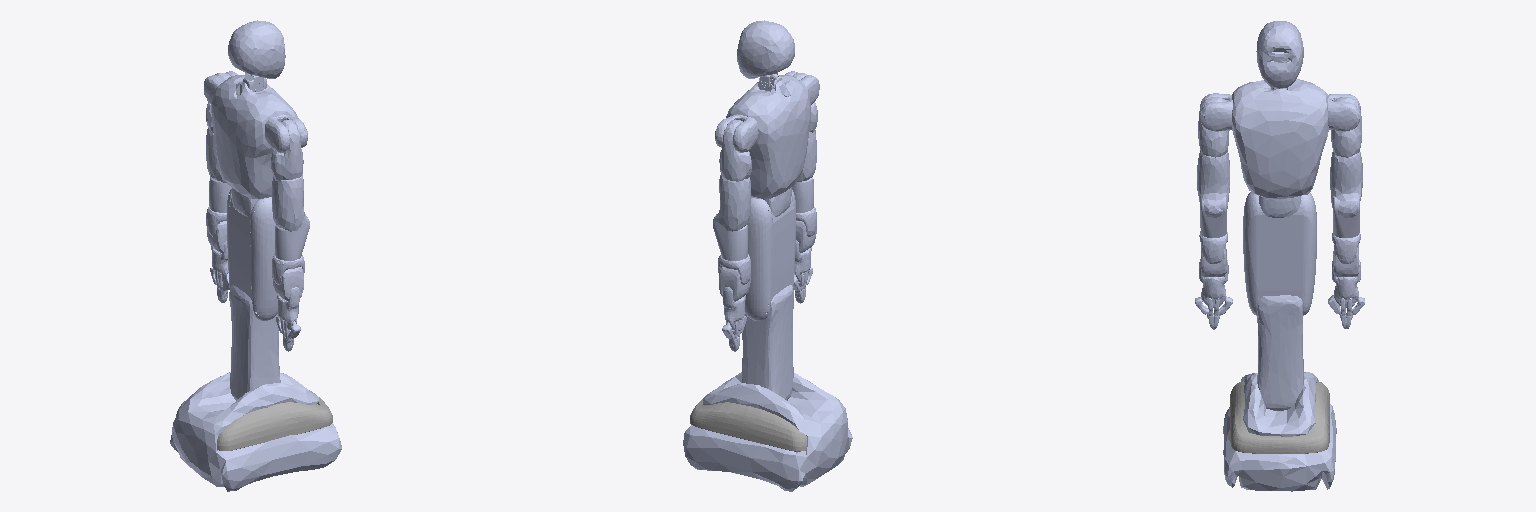
--- Facts derived from the render (not from the file) ---
Views: 3 orthographic renders of the robot side by side, from view 1: azimuth 30°, elevation 25°; view 2: azimuth 150°, elevation 25°; view 3: azimuth 270°, elevation 25°.
Robot: autolife — 47 links, 46 joints (21 revolute, 25 fixed); root link Link_Zero_Point; default pose: all joints at 0.
Visible links, largest first — view 1: Link_Ground_Vehicle, Link_Waist_Yaw_to_Shoulder_Inner, Link_Knee_to_Waist_Pitch, Link_Ankle_to_Knee, Link_Ground_Vehicle_Visual_Cover, Link_Head, Link_Right_UpperArm_to_Elbow, Link_Right_Shoulder_Outer_to_UpperArm, Link_Right_Shoulder_Inner_to_Shoulder_Outer, Link_Right_Elbow_to_Forearm, Link_Right_Wrist_Upper_to_Wrist_Lower, Link_Right_Wrist_Lower_to_Gripper (+2 smaller); view 2: Link_Ground_Vehicle, Link_Waist_Yaw_to_Shoulder_Inner, Link_Knee_to_Waist_Pitch, Link_Ankle_to_Knee, Link_Ground_Vehicle_Visual_Cover, Link_Head, Link_Left_UpperArm_to_Elbow, Link_Left_Shoulder_Outer_to_UpperArm, Link_Left_Shoulder_Inner_to_Shoulder_Outer, Link_Left_Elbow_to_Forearm, Link_Left_Wrist_Upper_to_Wrist_Lower, Link_Left_Wrist_Lower_to_Gripper (+1 smaller); view 3: Link_Waist_Yaw_to_Shoulder_Inner, Link_Ground_Vehicle, Link_Knee_to_Waist_Pitch, Link_Ankle_to_Knee, Link_Ground_Vehicle_Visual_Cover, Link_Head, Link_Left_UpperArm_to_Elbow, Link_Right_UpperArm_to_Elbow, Link_Right_Shoulder_Inner_to_Shoulder_Outer, Link_Left_Shoulder_Inner_to_Shoulder_Outer, Link_Right_Shoulder_Outer_to_UpperArm, Link_Left_Shoulder_Outer_to_UpperArm (+7 smaller).
Link boxes in pixels (x1=…): Link_Ground_Vehicle: x1=170, y1=372, x2=341, y2=491; Link_Waist_Yaw_to_Shoulder_Inner: x1=211, y1=75, x2=298, y2=198; Link_Knee_to_Waist_Pitch: x1=227, y1=190, x2=277, y2=320; Link_Ankle_to_Knee: x1=229, y1=285, x2=280, y2=400; Link_Ground_Vehicle_Visual_Cover: x1=176, y1=390, x2=332, y2=450; Link_Head: x1=228, y1=20, x2=285, y2=78; Link_Right_UpperArm_to_Elbow: x1=272, y1=174, x2=307, y2=231; Link_Right_Shoulder_Outer_to_UpperArm: x1=271, y1=120, x2=303, y2=180; Link_Right_Shoulder_Inner_to_Shoulder_Outer: x1=265, y1=114, x2=307, y2=152; Link_Right_Elbow_to_Forearm: x1=275, y1=218, x2=309, y2=260; Link_Right_Wrist_Upper_to_Wrist_Lower: x1=272, y1=267, x2=303, y2=300; Link_Right_Wrist_Lower_to_Gripper: x1=277, y1=287, x2=299, y2=329; Link_Ground_Vehicle: x1=683, y1=372, x2=852, y2=491; Link_Waist_Yaw_to_Shoulder_Inner: x1=726, y1=75, x2=810, y2=198; Link_Knee_to_Waist_Pitch: x1=745, y1=192, x2=795, y2=320; Link_Ankle_to_Knee: x1=742, y1=285, x2=793, y2=400; Link_Ground_Vehicle_Visual_Cover: x1=690, y1=390, x2=806, y2=451; Link_Head: x1=737, y1=20, x2=794, y2=78; Link_Left_UpperArm_to_Elbow: x1=713, y1=174, x2=751, y2=231; Link_Left_Shoulder_Outer_to_UpperArm: x1=719, y1=120, x2=751, y2=181; Link_Left_Shoulder_Inner_to_Shoulder_Outer: x1=715, y1=114, x2=758, y2=152; Link_Left_Elbow_to_Forearm: x1=713, y1=219, x2=747, y2=260; Link_Left_Wrist_Upper_to_Wrist_Lower: x1=719, y1=267, x2=750, y2=301; Link_Left_Wrist_Lower_to_Gripper: x1=723, y1=287, x2=745, y2=329; Link_Waist_Yaw_to_Shoulder_Inner: x1=1232, y1=79, x2=1328, y2=198; Link_Ground_Vehicle: x1=1223, y1=372, x2=1336, y2=491; Link_Knee_to_Waist_Pitch: x1=1243, y1=192, x2=1316, y2=315; Link_Ankle_to_Knee: x1=1257, y1=295, x2=1303, y2=410; Link_Ground_Vehicle_Visual_Cover: x1=1230, y1=381, x2=1329, y2=453; Link_Head: x1=1256, y1=21, x2=1303, y2=88; Link_Left_UpperArm_to_Elbow: x1=1330, y1=151, x2=1362, y2=217; Link_Right_UpperArm_to_Elbow: x1=1197, y1=150, x2=1229, y2=217; Link_Right_Shoulder_Inner_to_Shoulder_Outer: x1=1200, y1=93, x2=1232, y2=131; Link_Left_Shoulder_Inner_to_Shoulder_Outer: x1=1328, y1=94, x2=1360, y2=131; Link_Right_Shoulder_Outer_to_UpperArm: x1=1198, y1=97, x2=1229, y2=157; Link_Left_Shoulder_Outer_to_UpperArm: x1=1331, y1=97, x2=1361, y2=157.
Size in the robot's own frame: 0.5444 by 0.5882 by 1.68 metres.
Meshes: 46 distinct files referenced, 46 mesh visuals loaded (46 binary STL).

robot.urdf — autolife:
<?xml version='1.0' encoding='utf-8'?>
<robot name="autolife">
  <link name="Link_Zero_Point">
  </link>
  <joint name="Joint_Ground_Vehicle_Base" type="fixed">
    <origin xyz="0 0 0" rpy="0 0 1.5707963267949" />
    <parent link="Link_Zero_Point" />
    <child link="Link_Ground_Vehicle" />
    <axis xyz="1 0 0" />
  </joint>
  <link name="Link_Ground_Vehicle">
    <inertial>
      <origin xyz="-0.00059754303639295 0.0149481956156007 0.148277224545407" rpy="0 0 0" />
      <mass value="1.76472901588276" />
      <inertia ixx="0.00762290845782773" ixy="-2.93910770754353E-06" ixz="1.23694503771444E-05" iyy="0.00825103535952957" iyz="-0.000230532648823267" izz="0.0116628518559184" />
    </inertial>
    <visual>
      <origin xyz="0 0 0" rpy="0 0 0" />
      <geometry>
        <mesh filename="package://meshes/Link_Ground_Vehicle.STL" />
      </geometry>
      <material name="">
        <color rgba="0.792156862745098 0.819607843137255 0.933333333333333 1" />
      </material>
    </visual>
    <collision>
      <origin xyz="0 0 0" rpy="0 0 0" />
      <geometry>
        <mesh filename="package://meshes/Link_Ground_Vehicle.STL" />
      </geometry>
    </collision>
  </link>
  <link name="Link_Ankle_to_Knee">
    <inertial>
      <origin xyz="0.16976859107005 5.04511593380345E-05 -0.011659592653352" rpy="0 0 0" />
      <mass value="0.970205344211634" />
      <inertia ixx="0.00239278275003047" ixy="1.06865300816035E-05" ixz="9.37318496690757E-05" iyy="0.0180709718856655" iyz="4.97919456103669E-05" izz="0.0167571631367957" />
    </inertial>
    <visual>
      <origin xyz="0 0 0" rpy="0 0 0" />
      <geometry>
        <mesh filename="package://meshes/Link_Ankle_to_Knee.STL" />
      </geometry>
      <material name="">
        <color rgba="0.792156862745098 0.819607843137255 0.933333333333333 1" />
      </material>
    </visual>
    <collision>
      <origin xyz="0 0 0" rpy="0 0 0" />
      <geometry>
        <mesh filename="package://meshes/Link_Ankle_to_Knee.STL" />
      </geometry>
    </collision>
  </link>
  <joint name="Joint_Ankle" type="revolute">
    <origin xyz="0 0.0025695 0.28" rpy="0 -1.5708 0" />
    <parent link="Link_Ground_Vehicle" />
    <child link="Link_Ankle_to_Knee" />
    <axis xyz="0 0 -1" />
    <limit lower="-1.5708" upper="1.5708" effort="150" velocity="1" />
  </joint>
  <link name="Link_Knee_to_Waist_Pitch">
    <inertial>
      <origin xyz="0.190516175706594 0.00160329738556641 0.0308179544587926" rpy="0 0 0" />
      <mass value="0.785107966337333" />
      <inertia ixx="0.000958495389468965" ixy="-0.000157190431521544" ixz="4.0764501712907E-07" iyy="0.0115279594207101" iyz="-6.27934480130648E-08" izz="0.0122760868809789" />
    </inertial>
    <visual>
      <origin xyz="0 0 0" rpy="0 0 0" />
      <geometry>
        <mesh filename="package://meshes/Link_Knee_to_Waist_Pitch.STL" />
      </geometry>
      <material name="">
        <color rgba="0.792156862745098 0.819607843137255 0.933333333333333 1" />
      </material>
    </visual>
    <collision>
      <origin xyz="0 0 0" rpy="0 0 0" />
      <geometry>
        <mesh filename="package://meshes/Link_Knee_to_Waist_Pitch.STL" />
      </geometry>
    </collision>
  </link>
  <joint name="Joint_Knee" type="revolute">
    <origin xyz="0.3495 0 0" rpy="0 0 0" />
    <parent link="Link_Ankle_to_Knee" />
    <child link="Link_Knee_to_Waist_Pitch" />
    <axis xyz="0 0 1" />
    <limit lower="-3.14" upper="3.14" effort="150" velocity="1" />
  </joint>
  <link name="Link_Waist_Pitch_to_Waist_Yaw">
    <inertial>
      <origin xyz="0.0152074286340816 -0.000372613686719535 0.000444933410472928" rpy="0 0 0" />
      <mass value="0.275824503631058" />
      <inertia ixx="0.00059017216172053" ixy="-3.01831260181908E-06" ixz="5.4853813537808E-06" iyy="0.000866684105629655" iyz="8.7380244066877E-07" izz="0.000589200767126788" />
    </inertial>
    <visual>
      <origin xyz="0 0 0" rpy="0 0 0" />
      <geometry>
        <mesh filename="package://meshes/Link_Waist_Pitch_to_Waist_Yaw.STL" />
      </geometry>
      <material name="">
        <color rgba="0.792156862745098 0.819607843137255 0.933333333333333 1" />
      </material>
    </visual>
    <collision>
      <origin xyz="0 0 0" rpy="0 0 0" />
      <geometry>
        <mesh filename="package://meshes/Link_Waist_Pitch_to_Waist_Yaw.STL" />
      </geometry>
    </collision>
  </link>
  <joint name="Joint_Waist_Pitch" type="revolute">
    <origin xyz="0.3705 0 0" rpy="0 0 0" />
    <parent link="Link_Knee_to_Waist_Pitch" />
    <child link="Link_Waist_Pitch_to_Waist_Yaw" />
    <axis xyz="0 0 -1" />
    <limit lower="-3" upper="3" effort="98" velocity="1" />
  </joint>
  <link name="Link_Waist_Yaw_to_Shoulder_Inner">
    <inertial>
      <origin xyz="-0.00128643613825427 1.47073825186722E-05 -0.181383848869264" rpy="0 0 0" />
      <mass value="1.43697295227155" />
      <inertia ixx="0.0200602530913065" ixy="1.16529704393161E-06" ixz="-0.000230073286953698" iyy="0.0101259213155954" iyz="-5.67858946900702E-06" izz="0.0120288729570786" />
    </inertial>
    <visual>
      <origin xyz="0 0 0" rpy="0 0 0" />
      <geometry>
        <mesh filename="package://meshes/Link_Waist_Yaw_to_Shoulder_Inner.STL" />
      </geometry>
      <material name="">
        <color rgba="0.792156862745098 0.819607843137255 0.933333333333333 1" />
      </material>
    </visual>
    <collision>
      <origin xyz="0 0 0" rpy="0 0 0" />
      <geometry>
        <mesh filename="package://meshes/Link_Waist_Yaw_to_Shoulder_Inner.STL" />
      </geometry>
    </collision>
  </link>
  <joint name="Joint_Waist_Yaw" type="revolute">
    <origin xyz="0.06643 0 0" rpy="1.5708 0 -1.5708" />
    <parent link="Link_Waist_Pitch_to_Waist_Yaw" />
    <child link="Link_Waist_Yaw_to_Shoulder_Inner" />
    <axis xyz="0 0 -1" />
    <limit lower="-3.141" upper="3.141" effort="66" velocity="1" />
  </joint>
  <link name="Link_Left_Shoulder_Inner_to_Shoulder_Outer">
    <inertial>
      <origin xyz="0.00316526487091364 -0.000975093260002557 0.0535894465070502" rpy="0 0 0" />
      <mass value="0.203200806738131" />
      <inertia ixx="0.000360716094859449" ixy="-3.24358715788642E-06" ixz="-1.16111797925121E-05" iyy="0.000366235163476432" iyz="-2.76750313603116E-06" izz="0.000253849475481663" />
    </inertial>
    <visual>
      <origin xyz="0 0 0" rpy="0 0 0" />
      <geometry>
        <mesh filename="package://meshes/Link_Left_Shoulder_Inner_to_Shoulder_Outer.STL" />
      </geometry>
      <material name="">
        <color rgba="0.792156862745098 0.819607843137255 0.933333333333333 1" />
      </material>
    </visual>
    <collision>
      <origin xyz="0 0 0" rpy="0 0 0" />
      <geometry>
        <mesh filename="package://meshes/Link_Left_Shoulder_Inner_to_Shoulder_Outer.STL" />
      </geometry>
    </collision>
  </link>
  <joint name="Joint_Left_Shoulder_Inner" type="revolute">
    <origin xyz="0 -0.1426 -0.27657" rpy="1.5708 0 0" />
    <parent link="Link_Waist_Yaw_to_Shoulder_Inner" />
    <child link="Link_Left_Shoulder_Inner_to_Shoulder_Outer" />
    <axis xyz="0 0 1" />
    <limit lower="-2.8798" upper="2.8798" effort="21" velocity="1" />
  </joint>
  <link name="Link_Left_Shoulder_Outer_to_UpperArm">
    <inertial>
      <origin xyz="0.0797776408457354 0.00438791447566497 -0.0203464442672691" rpy="0 0 0" />
      <mass value="0.313723970319552" />
      <inertia ixx="0.000302758902108125" ixy="-3.79594394234498E-06" ixz="-5.06365685072851E-06" iyy="0.000253514048396291" iyz="7.1709863236798E-07" izz="0.00035270293278015" />
    </inertial>
    <visual>
      <origin xyz="0 0 0" rpy="0 0 0" />
      <geometry>
        <mesh filename="package://meshes/Link_Left_Shoulder_Outer_to_UpperArm.STL" />
      </geometry>
      <material name="">
        <color rgba="0.792156862745098 0.819607843137255 0.933333333333333 1" />
      </material>
    </visual>
    <collision>
      <origin xyz="0 0 0" rpy="0 0 0" />
      <geometry>
        <mesh filename="package://meshes/Link_Left_Shoulder_Outer_to_UpperArm.STL" />
      </geometry>
    </collision>
  </link>
  <joint name="Joint_Left_Shoulder_Outer" type="revolute">
    <origin xyz="0.019255 0 0.080999" rpy="1.5709 0 1.5708" />
    <parent link="Link_Left_Shoulder_Inner_to_Shoulder_Outer" />
    <child link="Link_Left_Shoulder_Outer_to_UpperArm" />
    <axis xyz="0 0 -1" />
    <limit lower="-3.1416" upper="0.2618" effort="18" velocity="1" />
  </joint>
  <link name="Link_Left_UpperArm_to_Elbow">
    <inertial>
      <origin xyz="0.00469066352696576 0.00280721881312804 0.12941118482707" rpy="0 0 0" />
      <mass value="0.40753361857715" />
      <inertia ixx="0.000849007781256294" ixy="-4.79925419678671E-06" ixz="-6.54071461646154E-06" iyy="0.000747645829861676" iyz="-8.32279484608779E-06" izz="0.000314125127984671" />
    </inertial>
    <visual>
      <origin xyz="0 0 0" rpy="0 0 0" />
      <geometry>
        <mesh filename="package://meshes/Link_Left_UpperArm_to_Elbow.STL" />
      </geometry>
      <material name="">
        <color rgba="0.792156862745098 0.819607843137255 0.933333333333333 1" />
      </material>
    </visual>
    <collision>
      <origin xyz="0 0 0" rpy="0 0 0" />
      <geometry>
        <mesh filename="package://meshes/Link_Left_UpperArm_to_Elbow.STL" />
      </geometry>
    </collision>
  </link>
  <joint name="Joint_Left_UpperArm" type="revolute">
    <origin xyz="0.12925 0.0044999 -0.01925" rpy="1.5709 -1.5707 1.5708" />
    <parent link="Link_Left_Shoulder_Outer_to_UpperArm" />
    <child link="Link_Left_UpperArm_to_Elbow" />
    <axis xyz="0 0 1" />
    <limit lower="-2.8798" upper="2.8798" effort="15" velocity="1" />
  </joint>
  <link name="Link_Left_Elbow_to_Forearm">
    <inertial>
      <origin xyz="0.0578034426716068 -0.0222139442784815 -0.0352423475562958" rpy="0 0 0" />
      <mass value="0.191019644801941" />
      <inertia ixx="0.000223603837538264" ixy="3.90546584040872E-05" ixz="-1.61807679619802E-06" iyy="0.000367596041466736" iyz="1.03273596576807E-06" izz="0.000490020029501822" />
    </inertial>
    <visual>
      <origin xyz="0 0 0" rpy="0 0 0" />
      <geometry>
        <mesh filename="package://meshes/Link_Left_Elbow_to_Forearm.STL" />
      </geometry>
      <material name="">
        <color rgba="0.792156862745098 0.819607843137255 0.933333333333333 1" />
      </material>
    </visual>
    <collision>
      <origin xyz="0 0 0" rpy="0 0 0" />
      <geometry>
        <mesh filename="package://meshes/Link_Left_Elbow_to_Forearm.STL" />
      </geometry>
    </collision>
  </link>
  <joint name="Joint_Left_Elbow" type="revolute">
    <origin xyz="0.024998 0.036158 0.20735" rpy="-3.1416 -1.5705 1.5708" />
    <parent link="Link_Left_UpperArm_to_Elbow" />
    <child link="Link_Left_Elbow_to_Forearm" />
    <axis xyz="0 0 1" />
    <limit lower="-0.0873" upper="2.61799" effort="12" velocity="1" />
  </joint>
  <link name="Link_Left_Forearm_to_Wrist_Upper">
    <inertial>
      <origin xyz="0.00884879907540006 8.4246855457909E-05 0.0236841933615141" rpy="0 0 0" />
      <mass value="0.11093689253481" />
      <inertia ixx="0.000110510127794654" ixy="1.65189500113761E-07" ixz="-1.30730109055405E-05" iyy="9.24118078082804E-05" iyz="-1.2295297722809E-07" izz="8.15829870338748E-05" />
    </inertial>
    <visual>
      <origin xyz="0 0 0" rpy="0 0 0" />
      <geometry>
        <mesh filename="package://meshes/Link_Left_Forearm_to_Wrist_Upper.STL" />
      </geometry>
      <material name="">
        <color rgba="0.792156862745098 0.819607843137255 0.933333333333333 1" />
      </material>
    </visual>
    <collision>
      <origin xyz="0 0 0" rpy="0 0 0" />
      <geometry>
        <mesh filename="package://meshes/Link_Left_Forearm_to_Wrist_Upper.STL" />
      </geometry>
    </collision>
  </link>
  <joint name="Joint_Left_Forearm" type="revolute">
    <origin xyz="0.1337 -0.025 -0.036136" rpy="1.5708 6.6051E-05 1.5708" />
    <parent link="Link_Left_Elbow_to_Forearm" />
    <child link="Link_Left_Forearm_to_Wrist_Upper" />
    <axis xyz="0 0 1" />
    <limit lower="-2.9671" upper="2.9671" effort="9" velocity="1" />
  </joint>
  <link name="Link_Left_Wrist_Upper_to_Wrist_Lower">
    <inertial>
      <origin xyz="0.0280879867655229 0.00123667993081761 -0.0308377186330782" rpy="0 0 0" />
      <mass value="0.120451219778188" />
      <inertia ixx="0.000104888875206667" ixy="2.44941774026814E-06" ixz="1.75533525604633E-05" iyy="0.000167140580493018" iyz="-3.98051418338599E-08" izz="0.000217735697904306" />
    </inertial>
    <visual>
      <origin xyz="0 0 0" rpy="0 0 0" />
      <geometry>
        <mesh filename="package://meshes/Link_Left_Wrist_Upper_to_Wrist_Lower.STL" />
      </geometry>
      <material name="">
        <color rgba="0.792156862745098 0.819607843137255 0.933333333333333 1" />
      </material>
    </visual>
    <collision>
      <origin xyz="0 0 0" rpy="0 0 0" />
      <geometry>
        <mesh filename="package://meshes/Link_Left_Wrist_Upper_to_Wrist_Lower.STL" />
      </geometry>
    </collision>
  </link>
  <joint name="Joint_Left_Wrist_Upper" type="revolute">
    <origin xyz="0.030349 0.0002874 0.050604" rpy="0.0094487 -1.5708 -3.1416" />
    <parent link="Link_Left_Forearm_to_Wrist_Upper" />
    <child link="Link_Left_Wrist_Upper_to_Wrist_Lower" />
    <axis xyz="0 0 -1" />
    <limit lower="-1.3963" upper="1.3963" effort="6" velocity="1" />
  </joint>
  <link name="Link_Left_Wrist_Lower_to_Gripper">
    <inertial>
      <origin xyz="0.0722688825275414 -0.000281747636267318 -0.0253587667328281" rpy="0 0 0" />
      <mass value="0.143735533635864" />
      <inertia ixx="8.22564890950023E-05" ixy="-1.48607286636697E-08" ixz="9.61668940336311E-06" iyy="0.000139062689036289" iyz="-1.476725997964E-07" izz="9.36641295677773E-05" />
    </inertial>
    <visual>
      <origin xyz="0 0 0" rpy="0 0 0" />
      <geometry>
        <mesh filename="package://meshes/Link_Left_Wrist_Lower_to_Gripper.STL" />
      </geometry>
      <material name="">
        <color rgba="0.792156862745098 0.819607843137255 0.933333333333333 1" />
      </material>
    </visual>
    <collision>
      <origin xyz="0 0 0" rpy="0 0 0" />
      <geometry>
        <mesh filename="package://meshes/Link_Left_Wrist_Lower_to_Gripper.STL" />
      </geometry>
    </collision>
  </link>
  <joint name="Joint_Left_Wrist_Lower" type="revolute">
    <origin xyz="0.0592 0.03035 -0.03035" rpy="-1.5708 0 0" />
    <parent link="Link_Left_Wrist_Upper_to_Wrist_Lower" />
    <child link="Link_Left_Wrist_Lower_to_Gripper" />
    <axis xyz="0 0 1" />
    <limit lower="-1.3963" upper="1.3963" effort="3" velocity="1" />
  </joint>
  <link name="Link_Camera_Gripper_Left">
    <inertial>
      <origin xyz="0.000105941220628181 0.029252641824717 -0.00726381692579368" rpy="0 0 0" />
      <mass value="0.000620287707848979" />
      <inertia ixx="9.954946516546E-07" ixy="-2.97003416387994E-09" ixz="8.04405874698912E-10" iyy="8.22881505540126E-08" iyz="2.01461489948855E-07" izz="9.20267513870828E-07" />
    </inertial>
    <visual>
      <origin xyz="0 0 0" rpy="0 0 0" />
      <geometry>
        <mesh filename="package://meshes/Link_Camera_Gripper_Left.STL" />
      </geometry>
      <material name="">
        <color rgba="0.792156862745098 0.819607843137255 0.933333333333333 1" />
      </material>
    </visual>
    <collision>
      <origin xyz="0 0 0" rpy="0 0 0" />
      <geometry>
        <mesh filename="package://meshes/Link_Camera_Gripper_Left.STL" />
      </geometry>
    </collision>
  </link>
  <joint name="Joint_Camera_Gripper_Left" type="fixed">
    <origin xyz="0.15282 0 -0.03035" rpy="1.5708 -1.5708 0" />
    <parent link="Link_Left_Wrist_Lower_to_Gripper" />
    <child link="Link_Camera_Gripper_Left" />
    <axis xyz="0 0 0" />
  </joint>
  <link name="Link_Left_Gripper">
    <inertial>
      <origin xyz="0.0126186699666561 -0.027875132662957 -0.0109906823465419" rpy="0 0 0" />
      <mass value="0.0206519659090923" />
      <inertia ixx="4.42160130308428E-06" ixy="-7.97784020067071E-07" ixz="7.60298747824409E-12" iyy="2.90495669588392E-06" iyz="-1.68911741847704E-11" izz="4.78225000091538E-06" />
    </inertial>
    <visual>
      <origin xyz="0 0 0" rpy="0 0 0" />
      <geometry>
        <mesh filename="package://meshes/Link_Left_Gripper.STL" />
      </geometry>
      <material name="">
        <color rgba="0.792156862745098 0.819607843137255 0.933333333333333 1" />
      </material>
    </visual>
    <collision>
      <origin xyz="0 0 0" rpy="0 0 0" />
      <geometry>
        <mesh filename="package://meshes/Link_Left_Gripper.STL" />
      </geometry>
    </collision>
  </link>
  <joint name="Joint_Left_Gripper" type="fixed">
    <origin xyz="0.1165 -0.011 0.00025004" rpy="-1.5398 -1.5707 3.1106" />
    <parent link="Link_Left_Wrist_Lower_to_Gripper" />
    <child link="Link_Left_Gripper" />
  </joint>
  <link name="Link_Left_Gripper_Left_Inner_Knuckle">
    <inertial>
      <origin xyz="-0.00149978139404408 -0.0291513140270752 -0.0109999660740234" rpy="0 0 0" />
      <mass value="0.0102146910854251" />
      <inertia ixx="4.38129665838747E-06" ixy="-1.27262585579237E-07" ixz="-4.69592988551413E-12" iyy="1.74550878178614E-06" iyz="1.56865074576307E-12" izz="2.90359014358719E-06" />
    </inertial>
    <visual>
      <origin xyz="0 0 0" rpy="0 0 0" />
      <geometry>
        <mesh filename="package://meshes/Link_Left_Gripper_Left_Inner_Knuckle.STL" />
      </geometry>
      <material name="">
        <color rgba="0.792156862745098 0.819607843137255 0.933333333333333 1" />
      </material>
    </visual>
    <collision>
      <origin xyz="0 0 0" rpy="0 0 0" />
      <geometry>
        <mesh filename="package://meshes/Link_Left_Gripper_Left_Inner_Knuckle.STL" />
      </geometry>
    </collision>
  </link>
  <joint name="Joint_Left_Gripper_Left_Inner_Knuckle" type="fixed">
    <origin xyz="0.12302 -0.011 -0.01765" rpy="1.5708 -1.5708 0" />
    <parent link="Link_Left_Wrist_Lower_to_Gripper" />
    <child link="Link_Left_Gripper_Left_Inner_Knuckle" />
    <mimic joint="Joint_Left_Gripper" multiplier="1" offset="0" />
  </joint>
  <link name="Link_Left_Gripper_Left_Finger">
    <inertial>
      <origin xyz="0.000542638958085678 -0.0200563209809078 -0.0109440395306242" rpy="0 0 0" />
      <mass value="0.020254003844163" />
      <inertia ixx="3.55387488357024E-06" ixy="-3.66729422471639E-07" ixz="-1.28243746306772E-08" iyy="1.35355004511896E-06" iyz="-6.91287607168674E-09" izz="3.28174345791181E-06" />
    </inertial>
    <visual>
      <origin xyz="0 0 0" rpy="0 0 0" />
      <geometry>
        <mesh filename="package://meshes/Link_Left_Gripper_Left_Finger.STL" />
      </geometry>
      <material name="">
        <color rgba="0.792156862745098 0.819607843137255 0.933333333333333 1" />
      </material>
    </visual>
    <collision>
      <origin xyz="0 0 0" rpy="0 0 0" />
      <geometry>
        <mesh filename="package://meshes/Link_Left_Gripper_Left_Finger.STL" />
      </geometry>
    </collision>
  </link>
  <joint name="Joint_Left_Gripper_Left_Finger" type="fixed">
    <origin xyz="-0.0032211 -0.057059 0" rpy="0 0 0" />
    <parent link="Link_Left_Gripper_Left_Inner_Knuckle" />
    <child link="Link_Left_Gripper_Left_Finger" />
    <mimic joint="Joint_Left_Gripper" multiplier="-1" offset="0" />
  </joint>
  <link name="Link_Left_Gripper_Right_Outer_Knuckle">
    <inertial>
      <origin xyz="-0.0126255788814193 -0.0278720040657486 -0.011009317653226" rpy="0 0 0" />
      <mass value="0.0206519659088955" />
      <inertia ixx="4.42199669725233E-06" ixy="7.97407997149111E-07" ixz="7.60718271586224E-12" iyy="2.90456130176528E-06" iyz="1.68893057598828E-11" izz="4.78225000086968E-06" />
    </inertial>
    <visual>
      <origin xyz="0 0 0" rpy="0 0 0" />
      <geometry>
        <mesh filename="package://meshes/Link_Left_Gripper_Right_Outer_Knuckle.STL" />
      </geometry>
      <material name="">
        <color rgba="0.792156862745098 0.819607843137255 0.933333333333333 1" />
      </material>
    </visual>
    <collision>
      <origin xyz="0 0 0" rpy="0 0 0" />
      <geometry>
        <mesh filename="package://meshes/Link_Left_Gripper_Right_Outer_Knuckle.STL" />
      </geometry>
    </collision>
  </link>
  <joint name="Joint_Left_Gripper_Right_Outer_Knuckle" type="fixed">
    <origin xyz="0.1165 -0.011 -0.06095" rpy="-1.5398 -1.5707 3.1106" />
    <parent link="Link_Left_Wrist_Lower_to_Gripper" />
    <child link="Link_Left_Gripper_Right_Outer_Knuckle" />
    <mimic joint="Joint_Left_Gripper" multiplier="-1" offset="0" />
  </joint>
  <link name="Link_Left_Gripper_Right_Inner_Knuckle">
    <inertial>
      <origin xyz="0.00178954078758595 -0.0291349577136361 -0.0109999768255139" rpy="0 0 0" />
      <mass value="0.0102146910854251" />
      <inertia ixx="4.37638649589448E-06" ixy="1.70627672905001E-07" ixz="-4.9765690714653E-12" iyy="1.75041894427724E-06" iyz="5.91560913804151E-13" izz="2.90359014358907E-06" />
    </inertial>
    <visual>
      <origin xyz="0 0 0" rpy="0 0 0" />
      <geometry>
        <mesh filename="package://meshes/Link_Left_Gripper_Right_Inner_Knuckle.STL" />
      </geometry>
      <material name="">
        <color rgba="0.792156862745098 0.819607843137255 0.933333333333333 1" />
      </material>
    </visual>
    <collision>
      <origin xyz="0 0 0" rpy="0 0 0" />
      <geometry>
        <mesh filename="package://meshes/Link_Left_Gripper_Right_Inner_Knuckle.STL" />
      </geometry>
    </collision>
  </link>
  <joint name="Joint_Left_Gripper_Right_Inner_Knuckle" type="fixed">
    <origin xyz="0.12302 -0.011 -0.04305" rpy="1.5708 -1.5708 0" />
    <parent link="Link_Left_Wrist_Lower_to_Gripper" />
    <child link="Link_Left_Gripper_Right_Inner_Knuckle" />
    <mimic joint="Joint_Left_Gripper" multiplier="-1" offset="0" />
  </joint>
  <link name="Link_Left_Gripper_Right_Finger">
    <inertial>
      <origin xyz="-0.000542710826665127 -0.0200563210643344 -0.0110559205227932" rpy="0 0 0" />
      <mass value="0.0202540038293407" />
      <inertia ixx="3.55387488045586E-06" ixy="3.66729388373509E-07" ixz="-1.28251046906285E-08" iyy="1.35355008131058E-06" iyz="6.91671762066884E-09" izz="3.28174341527734E-06" />
    </inertial>
    <visual>
      <origin xyz="0 0 0" rpy="0 0 0" />
      <geometry>
        <mesh filename="package://meshes/Link_Left_Gripper_Right_Finger.STL" />
      </geometry>
      <material name="">
        <color rgba="0.792156862745098 0.819607843137255 0.933333333333333 1" />
      </material>
    </visual>
    <collision>
      <origin xyz="0 0 0" rpy="0 0 0" />
      <geometry>
        <mesh filename="package://meshes/Link_Left_Gripper_Right_Finger.STL" />
      </geometry>
    </collision>
  </link>
  <joint name="Joint_Left_Gripper_Right_Finger" type="fixed">
    <origin xyz="0.003219 -0.057059 0" rpy="0 0 0" />
    <parent link="Link_Left_Gripper_Right_Inner_Knuckle" />
    <child link="Link_Left_Gripper_Right_Finger" />
    <mimic joint="Joint_Left_Gripper" multiplier="1" offset="0" />
  </joint>
  <link name="Link_Right_Shoulder_Inner_to_Shoulder_Outer">
    <inertial>
      <origin xyz="0.00118185217574434 0.000942392887598009 0.0550924580464795" rpy="0 0 0" />
      <mass value="0.213432264114562" />
      <inertia ixx="0.000366655434805914" ixy="3.29056503177536E-06" ixz="-1.18266921369955E-05" iyy="0.000370038992752772" iyz="2.95183586981112E-06" izz="0.000256413523568039" />
    </inertial>
    <visual>
      <origin xyz="0 0 0" rpy="0 0 0" />
      <geometry>
        <mesh filename="package://meshes/Link_Right_Shoulder_Inner_to_Shoulder_Outer.STL" />
      </geometry>
      <material name="">
        <color rgba="0.792156862745098 0.819607843137255 0.933333333333333 1" />
      </material>
    </visual>
    <collision>
      <origin xyz="0 0 0" rpy="0 0 0" />
      <geometry>
        <mesh filename="package://meshes/Link_Right_Shoulder_Inner_to_Shoulder_Outer.STL" />
      </geometry>
    </collision>
  </link>
  <joint name="Joint_Right_Shoulder_Inner" type="revolute">
    <origin xyz="0 0.1426 -0.27657" rpy="-1.5708 0 0" />
    <parent link="Link_Waist_Yaw_to_Shoulder_Inner" />
    <child link="Link_Right_Shoulder_Inner_to_Shoulder_Outer" />
    <axis xyz="0 0 1" />
    <limit lower="-2.8798" upper="2.8798" effort="21" velocity="1" />
  </joint>
  <link name="Link_Right_Shoulder_Outer_to_UpperArm">
    <inertial>
      <origin xyz="0.0797773908617689 -0.00439115439164139 -0.0203462148992158" rpy="0 0 0" />
      <mass value="0.313729168243654" />
      <inertia ixx="0.00030276290748115" ixy="3.80197649437393E-06" ixz="-5.06384837502757E-06" iyy="0.000253516902685008" iyz="-7.08121734112211E-07" izz="0.000352705108019649" />
    </inertial>
    <visual>
      <origin xyz="0 0 0" rpy="0 0 0" />
      <geometry>
        <mesh filename="package://meshes/Link_Right_Shoulder_Outer_to_UpperArm.STL" />
      </geometry>
      <material name="">
        <color rgba="0.792156862745098 0.819607843137255 0.933333333333333 1" />
      </material>
    </visual>
    <collision>
      <origin xyz="0 0 0" rpy="0 0 0" />
      <geometry>
        <mesh filename="package://meshes/Link_Right_Shoulder_Outer_to_UpperArm.STL" />
      </geometry>
    </collision>
  </link>
  <joint name="Joint_Right_Shoulder_Outer" type="revolute">
    <origin xyz="0.019245 0 0.081001" rpy="-1.5707 -1.3076E-05 -1.5708" />
    <parent link="Link_Right_Shoulder_Inner_to_Shoulder_Outer" />
    <child link="Link_Right_Shoulder_Outer_to_UpperArm" />
    <axis xyz="0 0 -1" />
    <limit lower="-0.2618" upper="3.1416" effort="18" velocity="1" />
  </joint>
  <link name="Link_Right_UpperArm_to_Elbow">
    <inertial>
      <origin xyz="0.00541873370659093 -0.00326951500825667 0.139732124544462" rpy="0 0 0" />
      <mass value="0.347653649804494" />
      <inertia ixx="0.000763160476372006" ixy="4.7975551120003E-06" ixz="-7.61924323896886E-06" iyy="0.00068545977489044" iyz="8.26256096426581E-06" izz="0.000277537677604993" />
    </inertial>
    <visual>
      <origin xyz="0 0 0" rpy="0 0 0" />
      <geometry>
        <mesh filename="package://meshes/Link_Right_UpperArm_to_Elbow.STL" />
      </geometry>
      <material name="">
        <color rgba="0.792156862745098 0.819607843137255 0.933333333333333 1" />
      </material>
    </visual>
    <collision>
      <origin xyz="0 0 0" rpy="0 0 0" />
      <geometry>
        <mesh filename="package://meshes/Link_Right_UpperArm_to_Elbow.STL" />
      </geometry>
    </collision>
  </link>
  <joint name="Joint_Right_UpperArm" type="revolute">
    <origin xyz="0.12925 -0.0045 -0.01925" rpy="1.5708 -1.5707 1.5708" />
    <parent link="Link_Right_Shoulder_Outer_to_UpperArm" />
    <child link="Link_Right_UpperArm_to_Elbow" />
    <axis xyz="0 0 1" />
    <limit lower="-2.8798" upper="2.8798" effort="15" velocity="1" />
  </joint>
  <link name="Link_Right_Elbow_to_Forearm">
    <inertial>
      <origin xyz="0.0578099453339372 0.0222143603324421 -0.0352358436170871" rpy="0 0 0" />
      <mass value="0.191025125429196" />
      <inertia ixx="0.000223610382100101" ixy="-3.9060324188661E-05" ixz="-1.64515461195713E-06" iyy="0.000367631600439802" iyz="-1.09664174547314E-06" izz="0.000490028080795422" />
    </inertial>
    <visual>
      <origin xyz="0 0 0" rpy="0 0 0" />
      <geometry>
        <mesh filename="package://meshes/Link_Right_Elbow_to_Forearm.STL" />
      </geometry>
      <material name="">
        <color rgba="0.792156862745098 0.819607843137255 0.933333333333333 1" />
      </material>
    </visual>
    <collision>
      <origin xyz="0 0 0" rpy="0 0 0" />
      <geometry>
        <mesh filename="package://meshes/Link_Right_Elbow_to_Forearm.STL" />
      </geometry>
    </collision>
  </link>
  <joint name="Joint_Right_Elbow" type="revolute">
    <origin xyz="0.025002 -0.036123 0.20735" rpy="-1.5707 -1.5708 3.1416" />
    <parent link="Link_Right_UpperArm_to_Elbow" />
    <child link="Link_Right_Elbow_to_Forearm" />
    <axis xyz="0 0 1" />
    <limit lower="-2.61799" upper="0.0873" effort="12" velocity="1" />
  </joint>
  <link name="Link_Right_Forearm_to_Wrist_Upper">
    <inertial>
      <origin xyz="0.00743431881876775 1.03457061279011E-06 0.0230186078618214" rpy="0 0 0" />
      <mass value="0.114828988554897" />
      <inertia ixx="0.00011167234296196" ixy="-1.03329837588883E-09" ixz="-1.3079042415296E-05" iyy="9.28462893944086E-05" iyz="1.96124953145855E-09" izz="8.25038904518323E-05" />
    </inertial>
    <visual>
      <origin xyz="0 0 0" rpy="0 0 0" />
      <geometry>
        <mesh filename="package://meshes/Link_Right_Forearm_to_Wrist_Upper.STL" />
      </geometry>
      <material name="">
        <color rgba="0.792156862745098 0.819607843137255 0.933333333333333 1" />
      </material>
    </visual>
    <collision>
      <origin xyz="0 0 0" rpy="0 0 0" />
      <geometry>
        <mesh filename="package://meshes/Link_Right_Forearm_to_Wrist_Upper.STL" />
      </geometry>
    </collision>
  </link>
  <joint name="Joint_Right_Forearm" type="revolute">
    <origin xyz="0.1337 0.025 -0.03613" rpy="-1.5708 -6.6065E-05 -1.5708" />
    <parent link="Link_Right_Elbow_to_Forearm" />
    <child link="Link_Right_Forearm_to_Wrist_Upper" />
    <axis xyz="0 0 1" />
    <limit lower="-2.9671" upper="2.9671" effort="9" velocity="1" />
  </joint>
  <link name="Link_Right_Wrist_Upper_to_Wrist_Lower">
    <inertial>
      <origin xyz="0.0280879850640203 0.0012366826436031 -0.0308377178555206" rpy="0 0 0" />
      <mass value="0.120451214542922" />
      <inertia ixx="0.000104888871266587" ixy="2.44941140515941E-06" ixz="1.75533534746792E-05" iyy="0.000167140570345676" iyz="-3.98049921382671E-08" izz="0.000217735683650262" />
    </inertial>
    <visual>
      <origin xyz="0 0 0" rpy="0 0 0" />
      <geometry>
        <mesh filename="package://meshes/Link_Right_Wrist_Upper_to_Wrist_Lower.STL" />
      </geometry>
      <material name="">
        <color rgba="0.792156862745098 0.819607843137255 0.933333333333333 1" />
      </material>
    </visual>
    <collision>
      <origin xyz="0 0 0" rpy="0 0 0" />
      <geometry>
        <mesh filename="package://meshes/Link_Right_Wrist_Upper_to_Wrist_Lower.STL" />
      </geometry>
    </collision>
  </link>
  <joint name="Joint_Right_Wrist_Upper" type="revolute">
    <origin xyz="0.03035 0 0.0506" rpy="6.6062E-05 -1.5708 3.1416" />
    <parent link="Link_Right_Forearm_to_Wrist_Upper" />
    <child link="Link_Right_Wrist_Upper_to_Wrist_Lower" />
    <axis xyz="0 0 -1" />
    <limit lower="-1.3963" upper="1.3963" effort="6" velocity="1" />
  </joint>
  <link name="Link_Right_Wrist_Lower_to_Gripper">
    <inertial>
      <origin xyz="0.0726557579481283 -0.000280154625799797 -0.0253413086105766" rpy="0 0 0" />
      <mass value="0.144552905707754" />
      <inertia ixx="8.22974671111719E-05" ixy="-1.48659715178908E-08" ixz="9.61567421561625E-06" iyy="0.000139093952672852" iyz="-1.47706267791576E-07" izz="9.36768745077933E-05" />
    </inertial>
    <visual>
      <origin xyz="0 0 0" rpy="0 0 0" />
      <geometry>
        <mesh filename="package://meshes/Link_Right_Wrist_Lower_to_Gripper.STL" />
      </geometry>
      <material name="">
        <color rgba="0.792156862745098 0.819607843137255 0.933333333333333 1" />
      </material>
    </visual>
    <collision>
      <origin xyz="0 0 0" rpy="0 0 0" />
      <geometry>
        <mesh filename="package://meshes/Link_Right_Wrist_Lower_to_Gripper.STL" />
      </geometry>
    </collision>
  </link>
  <joint name="Joint_Right_Wrist_Lower" type="revolute">
    <origin xyz="0.0592 0.03035 -0.03035" rpy="-1.5708 0 0" />
    <parent link="Link_Right_Wrist_Upper_to_Wrist_Lower" />
    <child link="Link_Right_Wrist_Lower_to_Gripper" />
    <axis xyz="0 0 1" />
    <limit lower="-1.3963" upper="1.3963" effort="3" velocity="1" />
  </joint>
  <link name="Link_Camera_Gripper_Right">
    <inertial>
      <origin xyz="0.000101983991574461 0.0292526558926576 -0.00726381690916586" rpy="0 0 0" />
      <mass value="0.000620287707848943" />
      <inertia ixx="9.95495438495952E-07" ixy="-2.84649671853165E-09" ixz="7.77153548931739E-10" iyy="8.22873634779718E-08" iyz="2.01461596457023E-07" izz="9.20267514105089E-07" />
    </inertial>
    <visual>
      <origin xyz="0 0 0" rpy="0 0 0" />
      <geometry>
        <mesh filename="package://meshes/Link_Camera_Gripper_Right.STL" />
      </geometry>
      <material name="">
        <color rgba="0.792156862745098 0.819607843137255 0.933333333333333 1" />
      </material>
    </visual>
    <collision>
      <origin xyz="0 0 0" rpy="0 0 0" />
      <geometry>
        <mesh filename="package://meshes/Link_Camera_Gripper_Right.STL" />
      </geometry>
    </collision>
  </link>
  <joint name="Joint_Camera_Gripper_Right" type="fixed">
    <origin xyz="0.15282 0 -0.030265" rpy="1.5708 -1.5708 0" />
    <parent link="Link_Right_Wrist_Lower_to_Gripper" />
    <child link="Link_Camera_Gripper_Right" />
    <axis xyz="0 0 0" />
  </joint>
  <link name="Link_Right_Gripper">
    <inertial>
      <origin xyz="0.0126258598494104 -0.0278718607279 -0.0109907230959443" rpy="0 0 0" />
      <mass value="0.0206519659152865" />
      <inertia ixx="4.42201480389958E-06" ixy="-7.97390768798214E-07" ixz="8.76973854608117E-12" iyy="2.90454319544295E-06" iyz="-1.43158221743851E-11" izz="4.78225000112927E-06" />
    </inertial>
    <visual>
      <origin xyz="0 0 0" rpy="0 0 0" />
      <geometry>
        <mesh filename="package://meshes/Link_Right_Gripper.STL" />
      </geometry>
      <material name="">
        <color rgba="0.792156862745098 0.819607843137255 0.933333333333333 1" />
      </material>
    </visual>
    <collision>
      <origin xyz="0 0 0" rpy="0 0 0" />
      <geometry>
        <mesh filename="package://meshes/Link_Right_Gripper.STL" />
      </geometry>
    </collision>
  </link>
  <joint name="Joint_Right_Gripper" type="fixed">
    <origin xyz="0.1165 -0.011 0.00032995" rpy="1.5708 -1.5708 0" />
    <parent link="Link_Right_Wrist_Lower_to_Gripper" />
    <child link="Link_Right_Gripper" />
  </joint>
  <link name="Link_Right_Gripper_Left_Inner_Knuckle">
    <inertial>
      <origin xyz="-0.00149531151743199 -0.029151532669742 -0.0109999951743339" rpy="0 0 0" />
      <mass value="0.0102146910854251" />
      <inertia ixx="4.38133562006096E-06" ixy="-1.26858462324769E-07" ixz="-4.76902129262822E-12" iyy="1.74546982011104E-06" iyz="4.09400980316841E-13" izz="2.90359014358882E-06" />
    </inertial>
    <visual>
      <origin xyz="0 0 0" rpy="0 0 0" />
      <geometry>
        <mesh filename="package://meshes/Link_Right_Gripper_Left_Inner_Knuckle.STL" />
      </geometry>
      <material name="">
        <color rgba="0.792156862745098 0.819607843137255 0.933333333333333 1" />
      </material>
    </visual>
    <collision>
      <origin xyz="0 0 0" rpy="0 0 0" />
      <geometry>
        <mesh filename="package://meshes/Link_Right_Gripper_Left_Inner_Knuckle.STL" />
      </geometry>
    </collision>
  </link>
  <joint name="Joint_Right_Gripper_Left_Inner_Knuckle" type="fixed">
    <origin xyz="0.12301 -0.011 -0.017569" rpy="1.5708 -1.5708 0" />
    <parent link="Link_Right_Wrist_Lower_to_Gripper" />
    <child link="Link_Right_Gripper_Left_Inner_Knuckle" />
    <mimic joint="Joint_Right_Gripper" multiplier="1" offset="0" />
  </joint>
  <link name="Link_Right_Gripper_Left_Finger">
    <inertial>
      <origin xyz="0.000545352759208861 -0.0200562364150361 -0.0109440594481688" rpy="0 0 0" />
      <mass value="0.0202540038896872" />
      <inertia ixx="3.5539740718038E-06" ixy="-3.6643172372332E-07" ixz="-1.28237935522709E-08" iyy="1.35345090343178E-06" iyz="-6.91652985260133E-09" izz="3.28174342544628E-06" />
    </inertial>
    <visual>
      <origin xyz="0 0 0" rpy="0 0 0" />
      <geometry>
        <mesh filename="package://meshes/Link_Right_Gripper_Left_Finger.STL" />
      </geometry>
      <material name="">
        <color rgba="0.792156862745098 0.819607843137255 0.933333333333333 1" />
      </material>
    </visual>
    <collision>
      <origin xyz="0 0 0" rpy="0 0 0" />
      <geometry>
        <mesh filename="package://meshes/Link_Right_Gripper_Left_Finger.STL" />
      </geometry>
    </collision>
  </link>
  <joint name="Joint_Right_Gripper_Left_Finger" type="fixed">
    <origin xyz="-0.0032124 -0.05706 0" rpy="0 0 0" />
    <parent link="Link_Right_Gripper_Left_Inner_Knuckle" />
    <child link="Link_Right_Gripper_Left_Finger" />
    <mimic joint="Joint_Right_Gripper" multiplier="-1" offset="0" />
  </joint>
  <link name="Link_Right_Gripper_Right_Outer_Knuckle">
    <inertial>
      <origin xyz="-0.0126183890070581 -0.0278752759363309 -0.011009276928954" rpy="0 0 0" />
      <mass value="0.0206519659154423" />
      <inertia ixx="4.42158318761922E-06" ixy="7.97801239226134E-07" ixz="8.76655291899067E-12" iyy="2.90497481167391E-06" iyz="1.43165388480865E-11" izz="4.78225000117387E-06" />
    </inertial>
    <visual>
      <origin xyz="0 0 0" rpy="0 0 0" />
      <geometry>
        <mesh filename="package://meshes/Link_Right_Gripper_Right_Outer_Knuckle.STL" />
      </geometry>
      <material name="">
        <color rgba="0.792156862745098 0.819607843137255 0.933333333333333 1" />
      </material>
    </visual>
    <collision>
      <origin xyz="0 0 0" rpy="0 0 0" />
      <geometry>
        <mesh filename="package://meshes/Link_Right_Gripper_Right_Outer_Knuckle.STL" />
      </geometry>
    </collision>
  </link>
  <joint name="Joint_Right_Gripper_Right_Outer_Knuckle" type="fixed">
    <origin xyz="0.1165 -0.011 -0.06087" rpy="1.5708 -1.5708 0" />
    <parent link="Link_Right_Wrist_Lower_to_Gripper" />
    <child link="Link_Right_Gripper_Right_Outer_Knuckle" />
    <mimic joint="Joint_Right_Gripper" multiplier="-1" offset="0" />
  </joint>
  <link name="Link_Right_Gripper_Right_Inner_Knuckle">
    <inertial>
      <origin xyz="0.00179400811779129 -0.0291346720397461 -0.0110000057897666" rpy="0 0 0" />
      <mass value="0.0102146910854251" />
      <inertia ixx="4.37633411312112E-06" ixy="1.71030276508952E-07" ixz="-4.75288026338584E-12" iyy="1.75047132705092E-06" iyz="-5.51953895001027E-13" izz="2.90359014358876E-06" />
    </inertial>
    <visual>
      <origin xyz="0 0 0" rpy="0 0 0" />
      <geometry>
        <mesh filename="package://meshes/Link_Right_Gripper_Right_Inner_Knuckle.STL" />
      </geometry>
      <material name="">
        <color rgba="0.792156862745098 0.819607843137255 0.933333333333333 1" />
      </material>
    </visual>
    <collision>
      <origin xyz="0 0 0" rpy="0 0 0" />
      <geometry>
        <mesh filename="package://meshes/Link_Right_Gripper_Right_Inner_Knuckle.STL" />
      </geometry>
    </collision>
  </link>
  <joint name="Joint_Right_Gripper_Right_Inner_Knuckle" type="fixed">
    <origin xyz="0.12302 -0.011 -0.042969" rpy="1.5708 -1.5708 0" />
    <parent link="Link_Right_Wrist_Lower_to_Gripper" />
    <child link="Link_Right_Gripper_Right_Inner_Knuckle" />
    <mimic joint="Joint_Right_Gripper" multiplier="-1" offset="0" />
  </joint>
  <link name="Link_Right_Gripper_Right_Finger">
    <inertial>
      <origin xyz="-0.000539997073784715 -0.0200563830974237 -0.0110559405546702" rpy="0 0 0" />
      <mass value="0.0202540037905654" />
      <inertia ixx="3.55377558791356E-06" ixy="3.67027072617117E-07" ixz="-1.2825664436535E-08" iyy="1.35364936278909E-06" iyz="6.91306480409945E-09" izz="3.28174339338345E-06" />
    </inertial>
    <visual>
      <origin xyz="0 0 0" rpy="0 0 0" />
      <geometry>
        <mesh filename="package://meshes/Link_Right_Gripper_Right_Finger.STL" />
      </geometry>
      <material name="">
        <color rgba="0.792156862745098 0.819607843137255 0.933333333333333 1" />
      </material>
    </visual>
    <collision>
      <origin xyz="0 0 0" rpy="0 0 0" />
      <geometry>
        <mesh filename="package://meshes/Link_Right_Gripper_Right_Finger.STL" />
      </geometry>
    </collision>
  </link>
  <joint name="Joint_Right_Gripper_Right_Finger" type="fixed">
    <origin xyz="0.0032278 -0.057059 0" rpy="0 0 0" />
    <parent link="Link_Right_Gripper_Right_Inner_Knuckle" />
    <child link="Link_Right_Gripper_Right_Finger" />
    <mimic joint="Joint_Right_Gripper" multiplier="1" offset="0" />
  </joint>
  <link name="Link_Neck_Roll_to_Neck_Pitch">
    <inertial>
      <origin xyz="9.00799057568236E-09 -0.0153769718417676 -0.0319690356415148" rpy="0 0 0" />
      <mass value="0.0266100129667274" />
      <inertia ixx="1.94167834173447E-05" ixy="-1.28189825539986E-12" ixz="-2.17853093030532E-08" iyy="2.2535263819422E-05" iyz="-1.44714983931659E-06" izz="8.81279711603355E-06" />
    </inertial>
    <visual>
      <origin xyz="0 0 0" rpy="0 0 0" />
      <geometry>
        <mesh filename="package://meshes/Link_Neck_Roll_to_Neck_Pitch.STL" />
      </geometry>
      <material name="">
        <color rgba="0.792156862745098 0.819607843137255 0.933333333333333 1" />
      </material>
    </visual>
    <collision>
      <origin xyz="0 0 0" rpy="0 0 0" />
      <geometry>
        <mesh filename="package://meshes/Link_Neck_Roll_to_Neck_Pitch.STL" />
      </geometry>
    </collision>
  </link>
  <joint name="Joint_Neck_Roll" type="revolute">
    <origin xyz="-0.0393 0 -0.3866" rpy="3.1415 1.5708 0" />
    <parent link="Link_Waist_Yaw_to_Shoulder_Inner" />
    <child link="Link_Neck_Roll_to_Neck_Pitch" />
    <axis xyz="0 0 1" />
    <limit lower="-0.4363" upper="0.4363" effort="1" velocity="1" />
  </joint>
  <link name="Link_Neck_Pitch_to_Neck_Yaw">
    <inertial>
      <origin xyz="0.0238505080469287 -9.76610520708222E-06 -0.0216620659361968" rpy="0 0 0" />
      <mass value="0.0345909525838143" />
      <inertia ixx="1.69081772091428E-05" ixy="2.45260116927946E-08" ixz="-1.55444483688494E-06" iyy="2.32170534309525E-05" iyz="-1.29662866835045E-08" izz="1.54953705433974E-05" />
    </inertial>
    <visual>
      <origin xyz="0 0 0" rpy="0 0 0" />
      <geometry>
        <mesh filename="package://meshes/Link_Neck_Pitch_to_Neck_Yaw.STL" />
      </geometry>
      <material name="">
        <color rgba="0.792156862745098 0.819607843137255 0.933333333333333 1" />
      </material>
    </visual>
    <collision>
      <origin xyz="0 0 0" rpy="0 0 0" />
      <geometry>
        <mesh filename="package://meshes/Link_Neck_Pitch_to_Neck_Yaw.STL" />
      </geometry>
    </collision>
  </link>
  <joint name="Joint_Neck_Pitch" type="revolute">
    <origin xyz="0 0.0265 -0.0343" rpy="-1.5708 0 0" />
    <parent link="Link_Neck_Roll_to_Neck_Pitch" />
    <child link="Link_Neck_Pitch_to_Neck_Yaw" />
    <axis xyz="0 0 -1" />
    <limit lower="-0.6981" upper="0.6981" effort="1" velocity="1" />
  </joint>
  <link name="Link_Neck_Yaw_to_Head">
    <inertial>
      <origin xyz="0.00193435086076889 4.59725398180288E-07 -0.0269424648216687" rpy="0 0 0" />
      <mass value="0.104705264997647" />
      <inertia ixx="3.20050490880563E-05" ixy="1.94948183115771E-08" ixz="3.78179233059623E-07" iyy="3.31493363970408E-05" iyz="-7.72349390029116E-11" izz="4.70672045159716E-05" />
    </inertial>
    <visual>
      <origin xyz="0 0 0" rpy="0 0 0" />
      <geometry>
        <mesh filename="package://meshes/Link_Neck_Yaw_to_Head.STL" />
      </geometry>
      <material name="">
        <color rgba="0.792156862745098 0.819607843137255 0.933333333333333 1" />
      </material>
    </visual>
    <collision>
      <origin xyz="0 0 0" rpy="0 0 0" />
      <geometry>
        <mesh filename="package://meshes/Link_Neck_Yaw_to_Head.STL" />
      </geometry>
    </collision>
  </link>
  <joint name="Joint_Neck_Yaw" type="revolute">
    <origin xyz="0.045 0 -0.0273" rpy="-1.5708 -6.6058E-05 1.5708" />
    <parent link="Link_Neck_Pitch_to_Neck_Yaw" />
    <child link="Link_Neck_Yaw_to_Head" />
    <axis xyz="0 0 -1" />
    <limit lower="-0.7854" upper="0.7854" effort="1" velocity="1" />
  </joint>
  <link name="Link_Camera_Head_Back">
    <inertial>
      <origin xyz="-0.000212238960519029 3.21215737342229E-09 -0.0137629216035849" rpy="0 0 0" />
      <mass value="0.00611898959479956" />
      <inertia ixx="5.91852783870796E-07" ixy="-1.16735482532381E-13" ixz="-1.33444303580332E-08" iyy="6.09804864943423E-07" iyz="-1.90497374950041E-13" izz="6.6277503277253E-07" />
    </inertial>
    <visual>
      <origin xyz="0 0 0" rpy="0 0 0" />
      <geometry>
        <mesh filename="package://meshes/Link_Camera_Head_Back.STL" />
      </geometry>
      <material name="">
        <color rgba="0.792156862745098 0.819607843137255 0.933333333333333 1" />
      </material>
    </visual>
    <collision>
      <origin xyz="0 0 0" rpy="0 0 0" />
      <geometry>
        <mesh filename="package://meshes/Link_Camera_Head_Back.STL" />
      </geometry>
    </collision>
  </link>
  <joint name="Joint_Camera_Head_Back" type="fixed">
    <origin xyz="-0.081345 -0.00081131 -0.07586" rpy="0 1.3614 -3.1414" />
    <parent link="Link_Neck_Yaw_to_Head" />
    <child link="Link_Camera_Head_Back" />
    <axis xyz="0 0 0" />
  </joint>
  <link name="Link_Camera_Head_Right_Eye">
    <inertial>
      <origin xyz="-0.000187730979287926 4.31465128902797E-09 -0.0151487446855001" rpy="0 0 0" />
      <mass value="0.00701687643410577" />
      <inertia ixx="8.02364071164105E-07" ixy="-2.11562346737729E-13" ixz="-1.6687093303486E-08" iyy="8.20783630298705E-07" iyz="-3.79602943247655E-13" izz="6.97607877470213E-07" />
    </inertial>
    <visual>
      <origin xyz="0 0 0" rpy="0 0 0" />
      <geometry>
        <mesh filename="package://meshes/Link_Camera_Head_Right_Eye.STL" />
      </geometry>
      <material name="">
        <color rgba="0.792156862745098 0.819607843137255 0.933333333333333 1" />
      </material>
    </visual>
    <collision>
      <origin xyz="0 0 0" rpy="0 0 0" />
      <geometry>
        <mesh filename="package://meshes/Link_Camera_Head_Right_Eye.STL" />
      </geometry>
    </collision>
  </link>
  <joint name="Joint_Camera_Head_Right_Eye" type="fixed">
    <origin xyz="0.084411 0.030726 -0.078819" rpy="0 1.4835 0.00014801" />
    <parent link="Link_Neck_Yaw_to_Head" />
    <child link="Link_Camera_Head_Right_Eye" />
    <axis xyz="0 0 0" />
  </joint>
  <link name="Link_Camera_Head_Left_Eye">
    <inertial>
      <origin xyz="-0.000187730979287926 4.31465133066133E-09 -0.0151487446855001" rpy="0 0 0" />
      <mass value="0.00701687643410577" />
      <inertia ixx="8.02364071164105E-07" ixy="-2.11562345268715E-13" ixz="-1.66870933034835E-08" iyy="8.20783630298703E-07" iyz="-3.79602943667255E-13" izz="6.97607877470209E-07" />
    </inertial>
    <visual>
      <origin xyz="0 0 0" rpy="0 0 0" />
      <geometry>
        <mesh filename="package://meshes/Link_Camera_Head_Left_Eye.STL" />
      </geometry>
      <material name="">
        <color rgba="0.792156862745098 0.819607843137255 0.933333333333333 1" />
      </material>
    </visual>
    <collision>
      <origin xyz="0 0 0" rpy="0 0 0" />
      <geometry>
        <mesh filename="package://meshes/Link_Camera_Head_Left_Eye.STL" />
      </geometry>
    </collision>
  </link>
  <joint name="Joint_Camera_Head_Left_Eye" type="fixed">
    <origin xyz="0.0844206542030591 -0.0322604144899466 -0.0788188245292203" rpy="0 1.48352986419485 0.000148012304017896" />
    <parent link="Link_Neck_Yaw_to_Head" />
    <child link="Link_Camera_Head_Left_Eye" />
    <axis xyz="0 0 0" />
  </joint>
  <link name="Link_Head">
    <inertial>
      <origin xyz="0.0102844159746608 -2.49959100005054E-05 -0.0282831011848594" rpy="0 0 0" />
      <mass value="0.418450121685517" />
      <inertia ixx="0.00209444856759002" ixy="-1.18557112184747E-07" ixz="5.90251420172751E-05" iyy="0.00162832850448213" iyz="-3.69207968883899E-07" izz="0.00154397866010588" />
    </inertial>
    <visual>
      <origin xyz="0 0 0" rpy="0 0 0" />
      <geometry>
        <mesh filename="package://meshes/Link_Head.STL" />
      </geometry>
      <material name="">
        <color rgba="0.792156862745098 0.819607843137255 0.933333333333333 1" />
      </material>
    </visual>
    <collision>
      <origin xyz="0 0 0" rpy="0 0 0" />
      <geometry>
        <mesh filename="package://meshes/Link_Head.STL" />
      </geometry>
    </collision>
  </link>
  <joint name="Joint_Head" type="fixed">
    <origin xyz="0.0066431 -0.00079595 -0.11323" rpy="3.1416 0 0" />
    <parent link="Link_Neck_Yaw_to_Head" />
    <child link="Link_Head" />
    <axis xyz="0 0 0" />
  </joint>
  <link name="Link_Camera_Head_Forehead">
    <inertial>
      <origin xyz="-2.77388620322228E-05 -0.00111224504722919 -0.0125654932489292" rpy="0 0 0" />
      <mass value="0.0457678722041278" />
      <inertia ixx="2.78752646744286E-05" ixy="1.40579928577069E-09" ixz="7.45828093103998E-09" iyy="4.13676771359678E-06" iyz="-4.09724903209921E-07" izz="2.75904255623373E-05" />
    </inertial>
    <visual>
      <origin xyz="0 0 0" rpy="0 0 0" />
      <geometry>
        <mesh filename="package://meshes/Link_Camera_Head_Forehead.STL" />
      </geometry>
      <material name="">
        <color rgba="0.792156862745098 0.819607843137255 0.933333333333333 1" />
      </material>
    </visual>
    <collision>
      <origin xyz="0 0 0" rpy="0 0 0" />
      <geometry>
        <mesh filename="package://meshes/Link_Camera_Head_Forehead.STL" />
      </geometry>
    </collision>
  </link>
  <joint name="Joint_Camera_Head_Forehead" type="fixed">
    <origin xyz="0.080891 -0.00076689 -0.11443" rpy="0 1.1 0.000148" />
    <parent link="Link_Neck_Yaw_to_Head" />
    <child link="Link_Camera_Head_Forehead" />
    <axis xyz="0 0 0" />
  </joint>
  <link name="Link_Knee_Black_Cover">
    <inertial>
      <origin xyz="-0.185935924677307 0.0115409856049614 -0.00145142348223466" rpy="0 0 0" />
      <mass value="0.260422352934635" />
      <inertia ixx="0.00024862624724164" ixy="-4.3718926653023E-05" ixz="7.52189734591882E-08" iyy="0.00208362754151595" iyz="2.44599307705114E-07" izz="0.00232631660520813" />
    </inertial>
    <visual>
      <origin xyz="0 0 0" rpy="0 0 0" />
      <geometry>
        <mesh filename="package://meshes/Link_Knee_Black_Cover.STL" />
      </geometry>
      <material name="">
        <color rgba="0.792156862745098 0.819607843137255 0.933333333333333 1" />
      </material>
    </visual>
    <collision>
      <origin xyz="0 0 0" rpy="0 0 0" />
      <geometry>
        <mesh filename="package://meshes/Link_Knee_Black_Cover.STL" />
      </geometry>
    </collision>
  </link>
  <joint name="Joint_Knee_Black_Cover" type="fixed">
    <origin xyz="0.3705 0 0" rpy="0 0 0" />
    <parent link="Link_Knee_to_Waist_Pitch" />
    <child link="Link_Knee_Black_Cover" />
    <axis xyz="0 0 0" />
  </joint>
  <link name="Link_IMU">
    <inertial>
      <origin xyz="-0.00053225572084678 0.00540285654729063 0.00652634714553812" rpy="0 0 0" />
      <mass value="0.0250513530544791" />
      <inertia ixx="4.72772678964975E-06" ixy="-1.65105313412864E-09" ixz="-5.3025837490666E-12" iyy="5.75032057676297E-06" iyz="6.75832240357406E-09" izz="9.91394694823296E-06" />
    </inertial>
    <visual>
      <origin xyz="0 0 0" rpy="0 0 0" />
      <geometry>
        <mesh filename="package://meshes/Link_IMU.STL" />
      </geometry>
      <material name="">
        <color rgba="1 1 1 1" />
      </material>
    </visual>
    <collision>
      <origin xyz="0 0 0" rpy="0 0 0" />
      <geometry>
        <mesh filename="package://meshes/Link_IMU.STL" />
      </geometry>
    </collision>
  </link>
  <joint name="Joint_IMU" type="fixed">
    <origin xyz="0 0.0025695 0.2087" rpy="3.1416 0 0" />
    <parent link="Link_Ground_Vehicle" />
    <child link="Link_IMU" />
    <axis xyz="0 0 0" />
  </joint>
  <link name="Link_Lidar_Back">
    <inertial>
      <origin xyz="-0.000108417461059857 -0.000111999683172936 -0.00733517298855576" rpy="0 0 0" />
      <mass value="0.0281759826102684" />
      <inertia ixx="9.98337077709243E-06" ixy="2.39561620231262E-09" ixz="-4.19599962489362E-09" iyy="1.00933165632091E-05" iyz="-1.65995563334784E-08" izz="1.80911092017015E-05" />
    </inertial>
    <visual>
      <origin xyz="0 0 0" rpy="0 0 0" />
      <geometry>
        <mesh filename="package://meshes/Link_Lidar_Back.STL" />
      </geometry>
      <material name="">
        <color rgba="1 1 1 1" />
      </material>
    </visual>
    <collision>
      <origin xyz="0 0 0" rpy="0 0 0" />
      <geometry>
        <mesh filename="package://meshes/Link_Lidar_Back.STL" />
      </geometry>
    </collision>
  </link>
  <joint name="Joint_Lidar_Back" type="fixed">
    <origin xyz="0 0.21757 0.1615" rpy="3.1416 0 0" />
    <parent link="Link_Ground_Vehicle" />
    <child link="Link_Lidar_Back" />
    <axis xyz="0 0 0" />
  </joint>
  <link name="Link_Ground_Vehicle_Visual_Cover">
    <inertial>
      <origin xyz="-5.03813175089241E-05 -0.0208296293454027 0.208962140361411" rpy="0 0 0" />
      <mass value="0.569688940866511" />
      <inertia ixx="0.012140533672483" ixy="6.29282321582332E-06" ixz="1.69800921171606E-06" iyy="0.0120287046366284" iyz="-0.000347486083806356" izz="0.0232610035532533" />
    </inertial>
    <visual>
      <origin xyz="0 0 0" rpy="0 0 0" />
      <geometry>
        <mesh filename="package://meshes/Link_Ground_Vehicle_Visual_Cover.STL" />
      </geometry>
      <material name="">
        <color rgba="0.698039215686274 0.698039215686274 0.698039215686274 1" />
      </material>
    </visual>
    <collision>
      <origin xyz="0 0 0" rpy="0 0 0" />
      <geometry>
        <mesh filename="package://meshes/Link_Ground_Vehicle_Visual_Cover.STL" />
      </geometry>
    </collision>
  </link>
  <joint name="Joint_Ground_Vehicle_Visual_Cover" type="fixed">
    <origin xyz="0 0 0" rpy="0 0 0" />
    <parent link="Link_Ground_Vehicle" />
    <child link="Link_Ground_Vehicle_Visual_Cover" />
    <axis xyz="0 0 0" />
  </joint>
  <link name="Link_Lidar_Front">
    <inertial>
      <origin xyz="0.000108415370961124 0.000111999683173075 -0.00733517301944776" rpy="0 0 0" />
      <mass value="0.0281759826102677" />
      <inertia ixx="9.98337077948404E-06" ixy="2.39562093250792E-09" ixz="4.19830986004062E-09" iyy="1.00933165632088E-05" iyz="1.65995556508714E-08" izz="1.8091109199309E-05" />
    </inertial>
    <visual>
      <origin xyz="0 0 0" rpy="0 0 0" />
      <geometry>
        <mesh filename="package://meshes/Link_Lidar_Front.STL" />
      </geometry>
      <material name="">
        <color rgba="1 1 1 1" />
      </material>
    </visual>
    <collision>
      <origin xyz="0 0 0" rpy="0 0 0" />
      <geometry>
        <mesh filename="package://meshes/Link_Lidar_Front.STL" />
      </geometry>
    </collision>
  </link>
  <joint name="Joint_Lidar_Front" type="fixed">
    <origin xyz="0 -0.21243 0.1615" rpy="-3.1416 0 0" />
    <parent link="Link_Ground_Vehicle" />
    <child link="Link_Lidar_Front" />
    <axis xyz="0 0 0" />
  </joint>
</robot>
